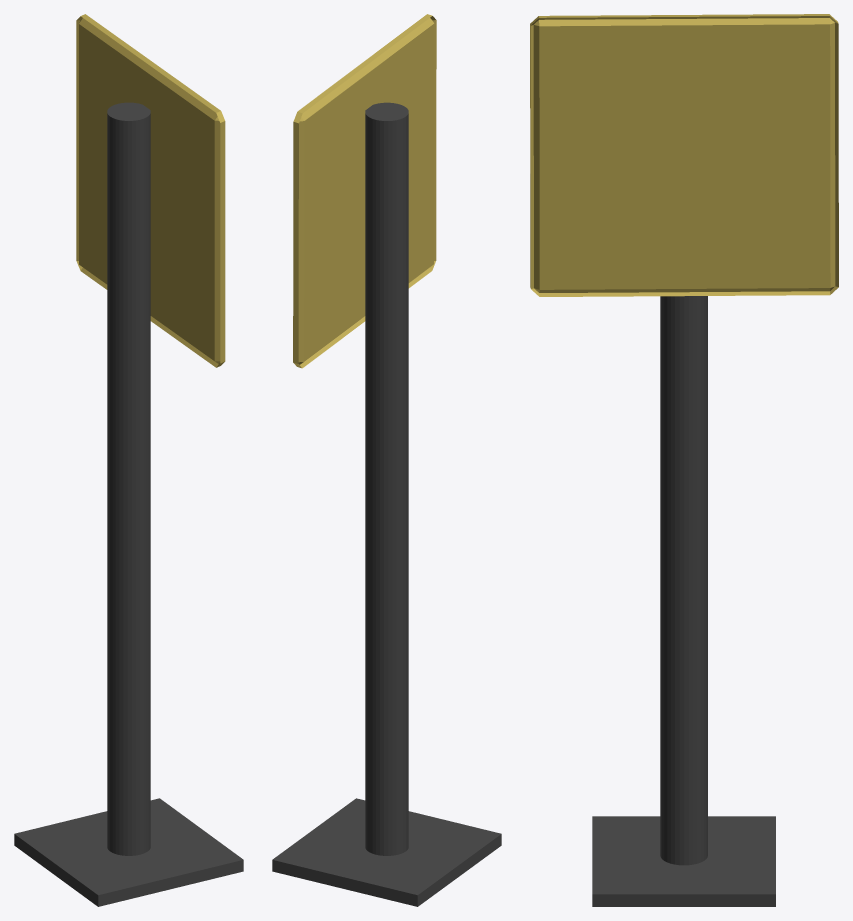
The model's file is iz_sign_v2.fbx.
The picture shows the model from 3 angles, left to right: view 1: azimuth 30°, elevation 25°; view 2: azimuth 150°, elevation 25°; view 3: azimuth 270°, elevation 25°; orthographic projection. The views are drawn at different scales.
Visible parts, largest first — view 1: Cylinder; view 2: Cylinder; view 3: Cylinder.
Boxes of the visible parts, x1,y1,x2,y2 form: Cylinder: [14, 14, 243, 906]; Cylinder: [272, 14, 501, 906]; Cylinder: [530, 14, 838, 906].
Size of the model in its own units: 166 by 882 by 279.
